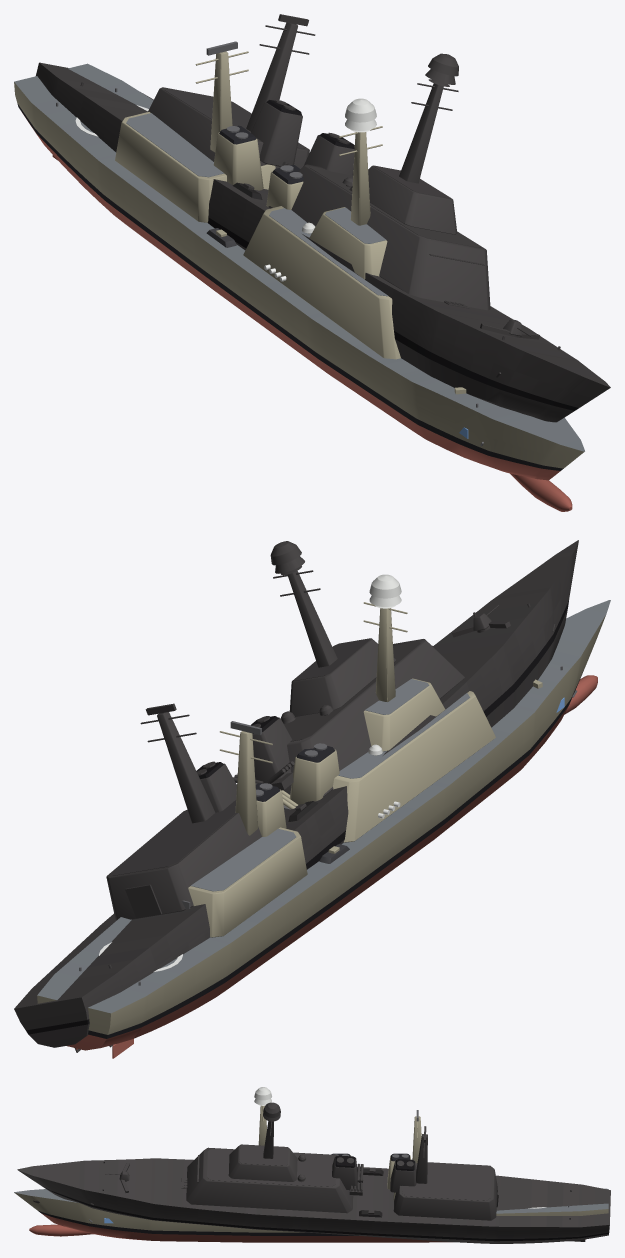
File: asFrigate__al_riyadh_class.glb
3 renders of one model, top to bottom at view 1: azimuth 30°, elevation 25°; view 2: azimuth 150°, elevation 25°; view 3: azimuth 270°, elevation 25°, orthographic. The views are drawn at different scales.
Visible parts, largest first — view 1: Hull_Mesh, Wreck; view 2: Hull_Mesh, Wreck; view 3: Wreck, Hull_Mesh.
Part boxes in pixels (left/top/right/bottom): Hull_Mesh: left=14, top=41, right=584, bottom=511; Wreck: left=36, top=14, right=610, bottom=422; Hull_Mesh: left=37, top=574, right=610, bottom=1058; Wreck: left=14, top=540, right=578, bottom=1052; Wreck: left=17, top=1102, right=610, bottom=1243; Hull_Mesh: left=14, top=1087, right=608, bottom=1242.
Size of what is drawn, in the model's own units: 24.19 by 40.8 by 139.
